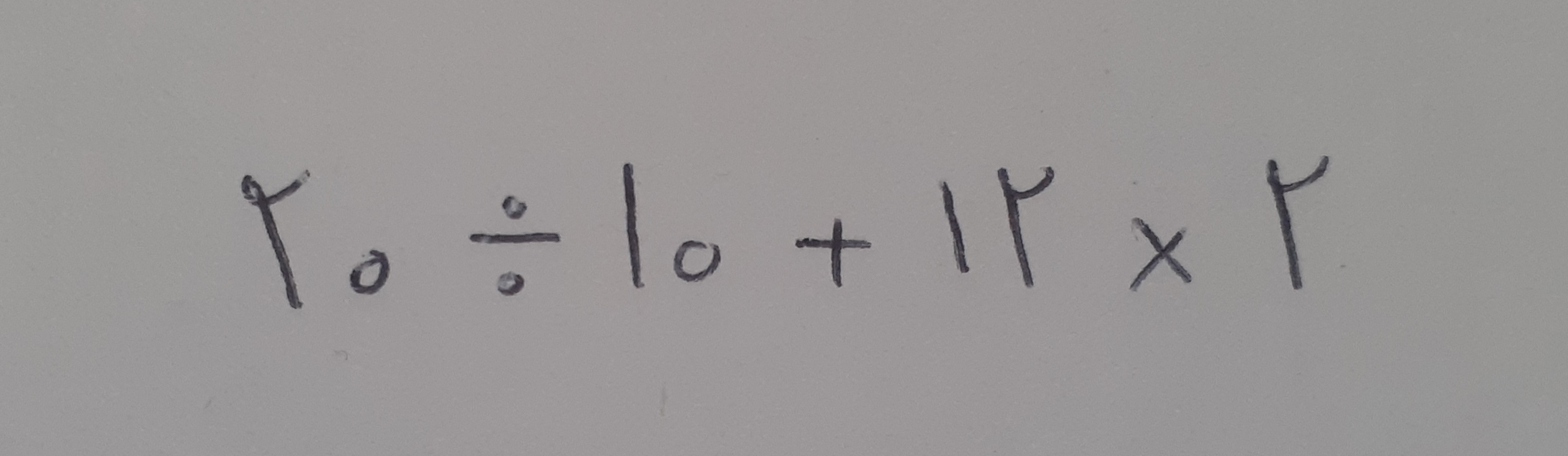character: (240, 170, 312, 310), (468, 195, 561, 296), (1265, 154, 1329, 291), (999, 166, 1055, 287), (796, 218, 872, 288), (1128, 217, 1193, 293), (621, 161, 646, 290), (938, 180, 969, 275), (675, 240, 721, 283), (349, 249, 391, 296)
